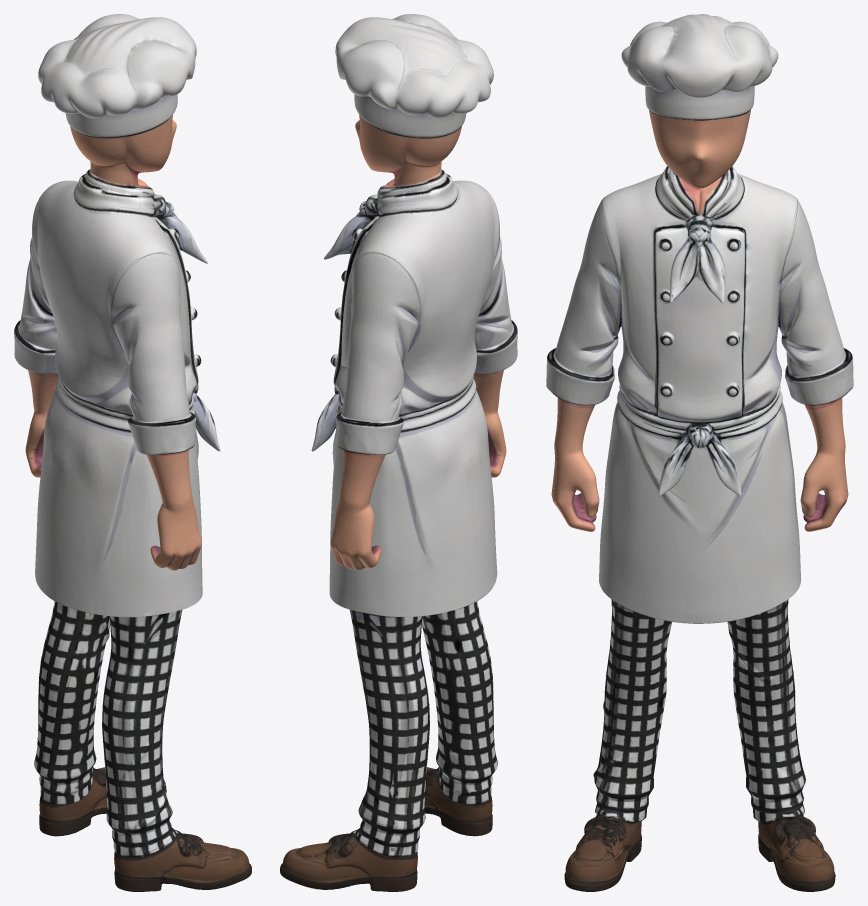
File: chef+3d+model.glb
3 renders of one model, left to right at view 1: azimuth 30°, elevation 25°; view 2: azimuth 150°, elevation 25°; view 3: azimuth 270°, elevation 25°, orthographic. The views are drawn at different scales.
Visible parts, largest first — view 1: tripo_node_1e4f548a-2e0e-48c3-96f7-e21ad675fbac; view 2: tripo_node_1e4f548a-2e0e-48c3-96f7-e21ad675fbac; view 3: tripo_node_1e4f548a-2e0e-48c3-96f7-e21ad675fbac.
Part boxes in pixels (x1,y1,x2,y2): tripo_node_1e4f548a-2e0e-48c3-96f7-e21ad675fbac: (14,14,251,891); tripo_node_1e4f548a-2e0e-48c3-96f7-e21ad675fbac: (280,14,517,891); tripo_node_1e4f548a-2e0e-48c3-96f7-e21ad675fbac: (546,14,853,891).
Bounding box in the file's own units: 0.193 × 0.9999 × 0.3305.
1 material, 1 textured.
